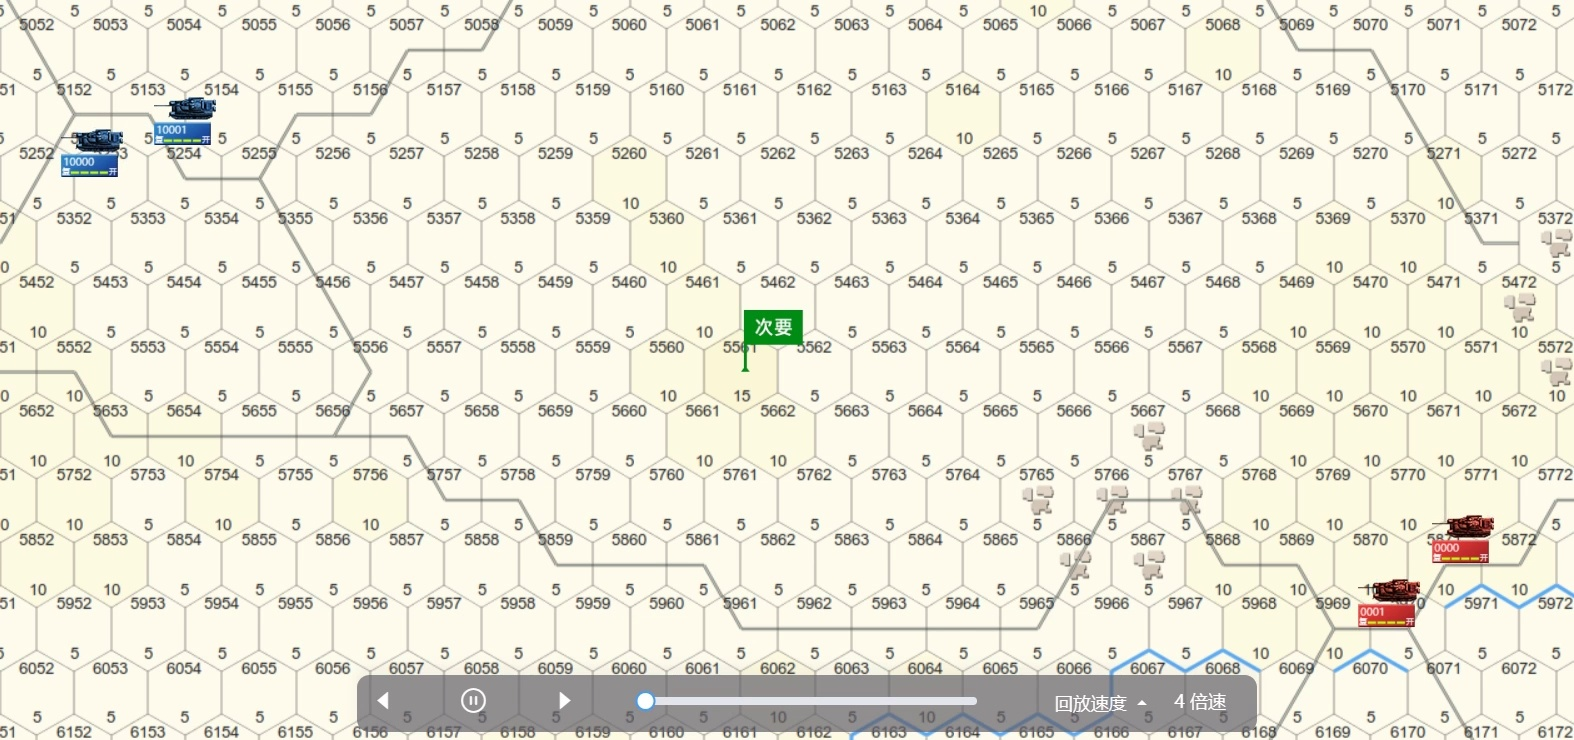blue_tank: (69, 126, 125, 178), (152, 100, 218, 145)
red_tank: (1429, 516, 1496, 563), (1361, 583, 1417, 630)
